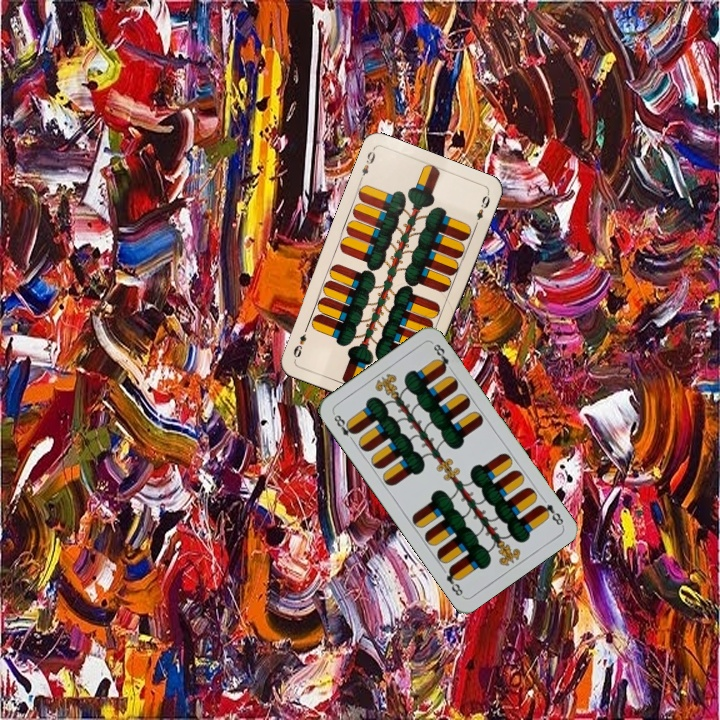E8: (329, 409, 359, 445), (535, 500, 566, 528)
E9: (356, 145, 378, 184)
